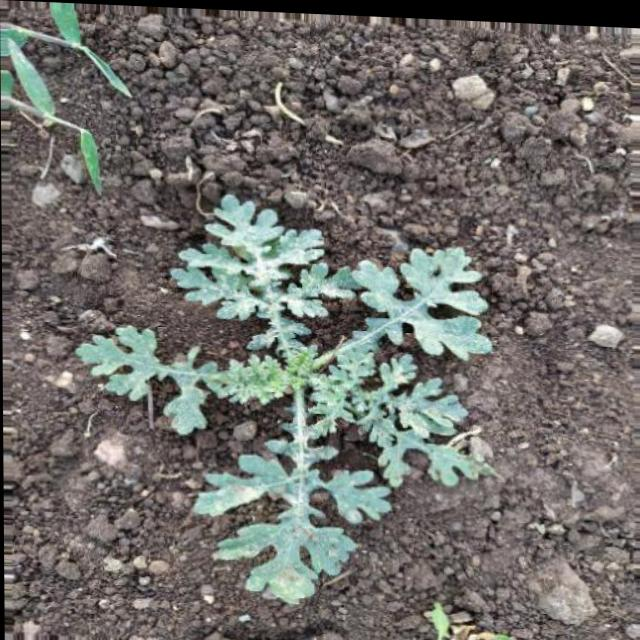weed: (66, 188, 494, 603)
